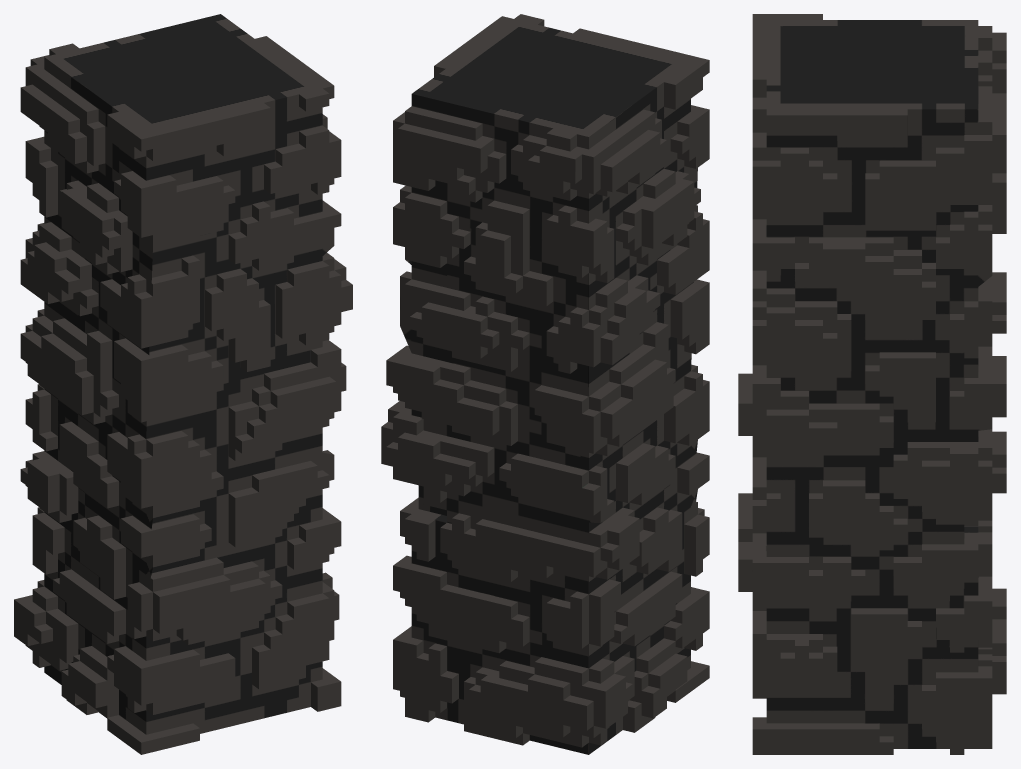
File: Column_0.fbx
3 renders of one model, left to right at view 1: azimuth 30°, elevation 25°; view 2: azimuth 150°, elevation 25°; view 3: azimuth 270°, elevation 25°, orthographic. The views are drawn at different scales.
Parts seen in each view (by area): view 1: Column_0; view 2: Column_0; view 3: Column_0.
Part boxes in pixels (x1,y1,x2,y2): Column_0: [14, 14, 352, 754]; Column_0: [381, 14, 709, 754]; Column_0: [738, 14, 1006, 754].
Bounding box in the file's own units: 190 × 500 × 190.
Materials: 1 (1 with a texture image).
